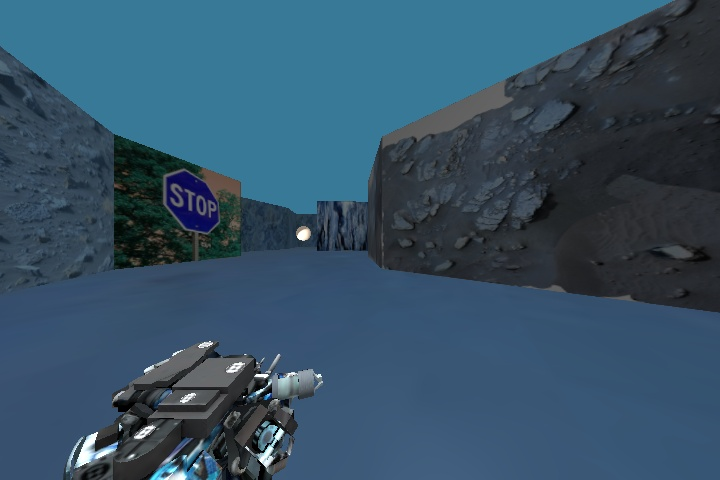stop_sign: (151, 155, 227, 240)
white_sphere: (288, 218, 316, 246)
